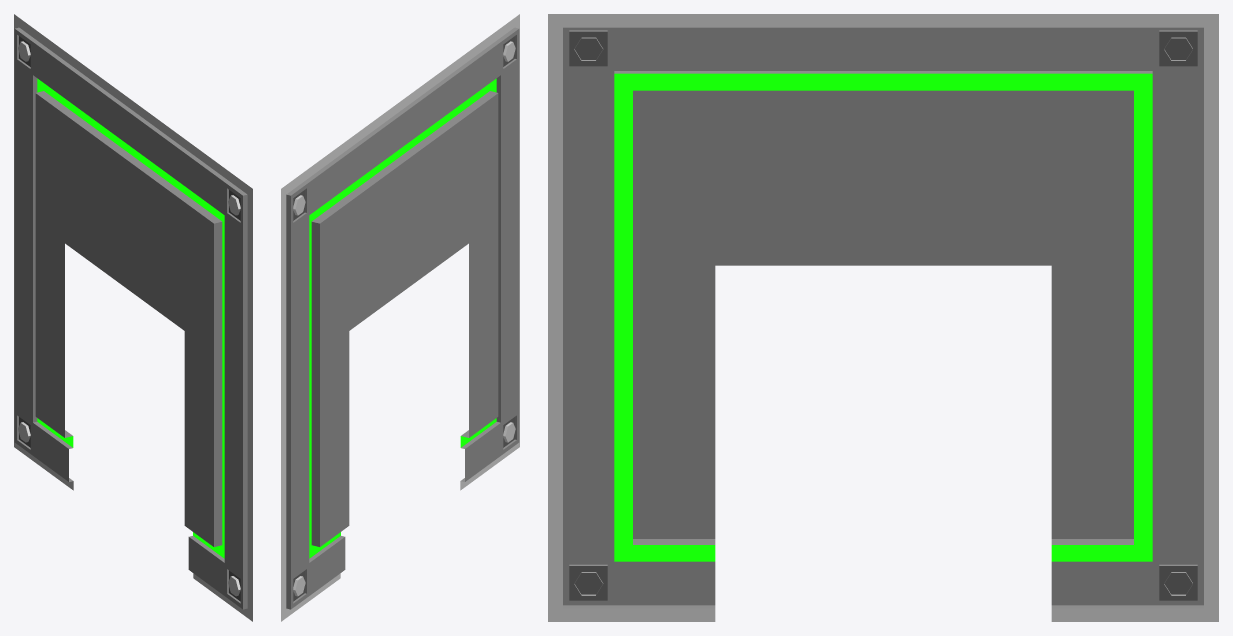
The model's file is Wall_08_Door.FBX.
3 views of the same model, side by side, from view 1: azimuth 30°, elevation 25°; view 2: azimuth 150°, elevation 25°; view 3: azimuth 270°, elevation 25° (orthographic). The views are drawn at different scales.
Visible parts, largest first — view 1: Wall_08_Door_LOD0; view 2: Wall_08_Door_LOD0; view 3: Wall_08_Door_LOD0.
Boxes of the visible parts, box(x1,y1,x2,y2) form: Wall_08_Door_LOD0: box(14, 14, 252, 621); Wall_08_Door_LOD0: box(281, 14, 519, 621); Wall_08_Door_LOD0: box(548, 14, 1218, 621).
Size of what is drawn, in the model's own units: 3.8 by 180 by 180.
